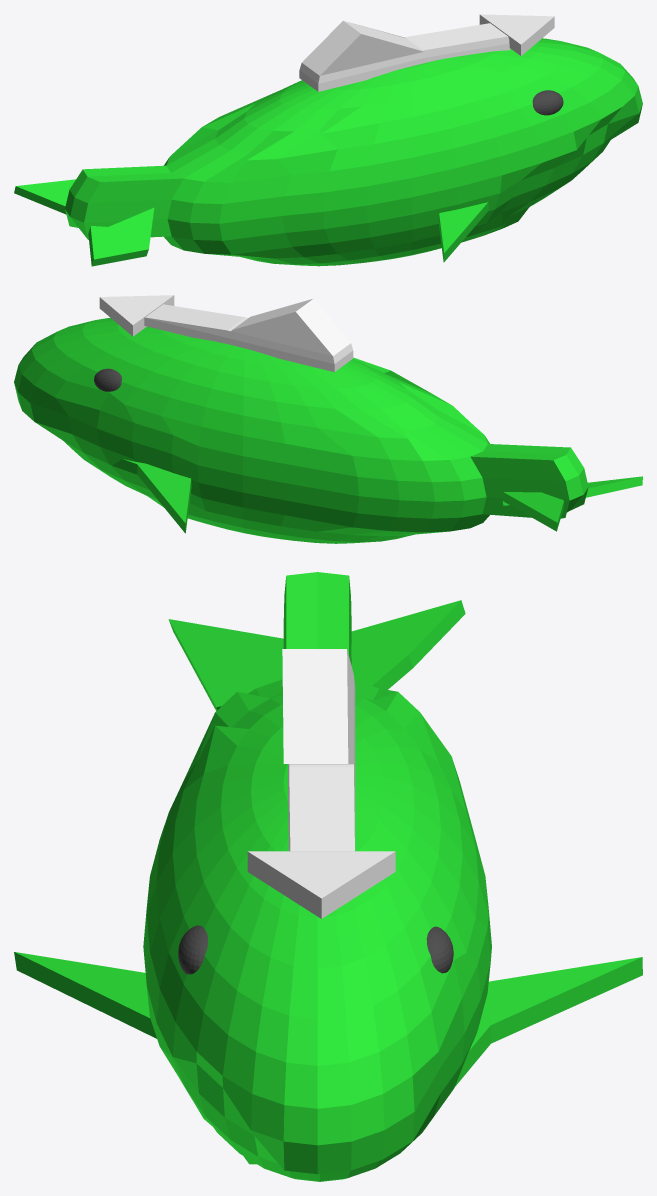
File: SharkGreen.fbx
3 views of the same model, one above another, from view 1: azimuth 30°, elevation 25°; view 2: azimuth 150°, elevation 25°; view 3: azimuth 270°, elevation 25° (orthographic). The views are drawn at different scales.
Parts seen in each view (by area): view 1: Shark; view 2: Shark; view 3: Shark.
Boxes of the visible parts, x1,y1,x2,y2 form: Shark: (14,14,642,266); Shark: (14,295,642,543); Shark: (14,572,642,1181).
Size of the model in its own units: 799 by 303 by 416.
